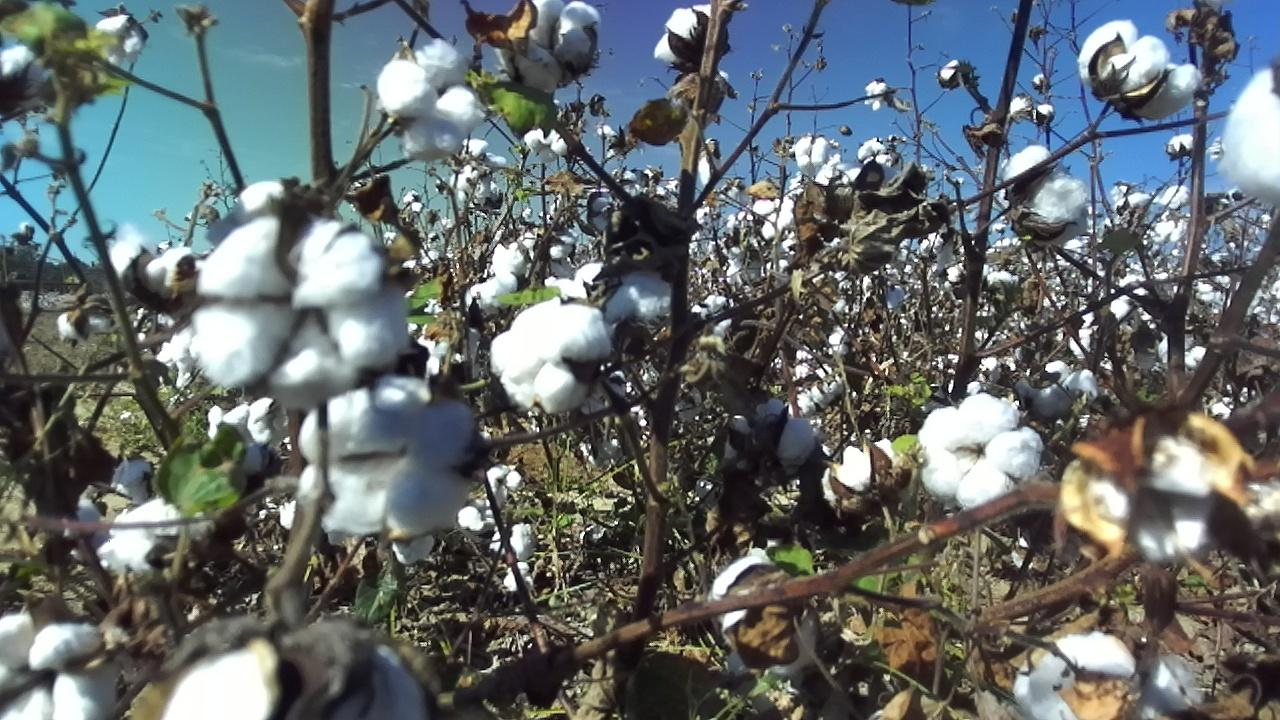cotton_ready: (192, 219, 409, 407), (300, 377, 480, 533), (159, 639, 437, 720), (1073, 435, 1225, 563), (920, 390, 1044, 510), (710, 537, 817, 672), (489, 299, 612, 413), (376, 37, 485, 161), (0, 612, 116, 720), (1080, 17, 1202, 119), (1013, 630, 1144, 720), (495, 0, 604, 94), (99, 497, 217, 573), (1004, 142, 1089, 247), (721, 401, 819, 485), (107, 222, 207, 297), (1225, 69, 1280, 205), (820, 437, 913, 510), (565, 262, 674, 324), (200, 177, 289, 246), (79, 457, 150, 525), (1134, 654, 1202, 720), (653, 4, 719, 64), (205, 399, 289, 446), (1242, 477, 1280, 569), (0, 46, 49, 114), (493, 224, 540, 290), (89, 16, 145, 69), (465, 279, 519, 317)
